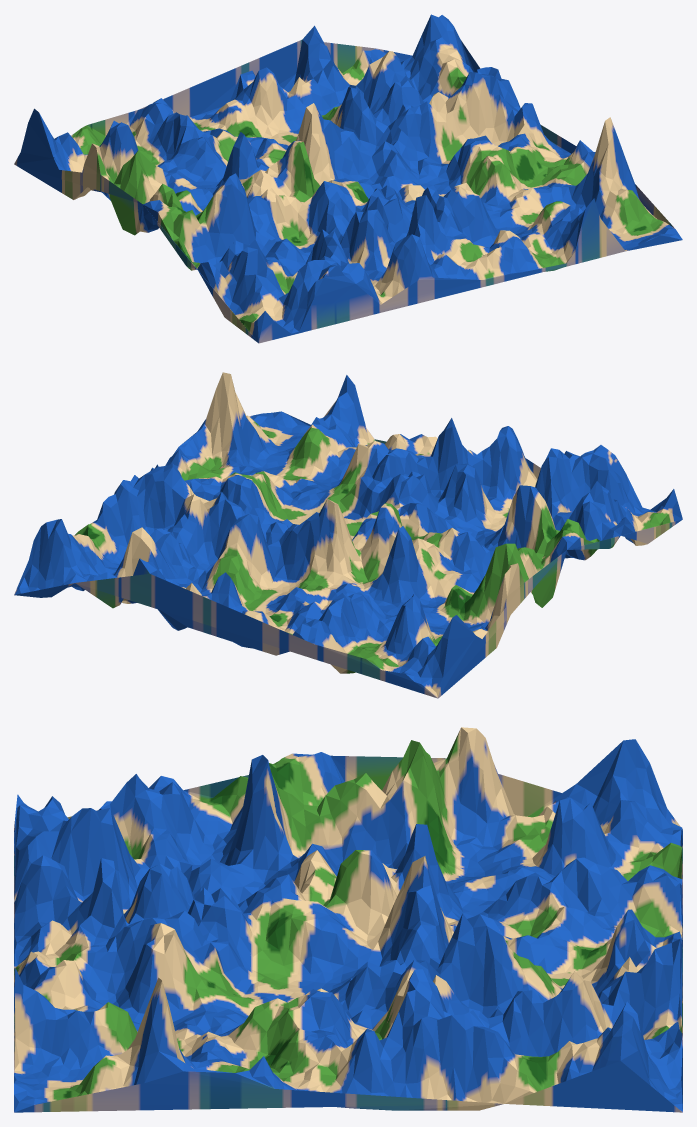
The model's file is flat.obj.
3 renders of one model, top to bottom at view 1: azimuth 30°, elevation 25°; view 2: azimuth 150°, elevation 25°; view 3: azimuth 270°, elevation 25°, orthographic. The views are drawn at different scales.
Size of the model in its own units: 256 by 50.63 by 256.
1 material, 1 textured.
